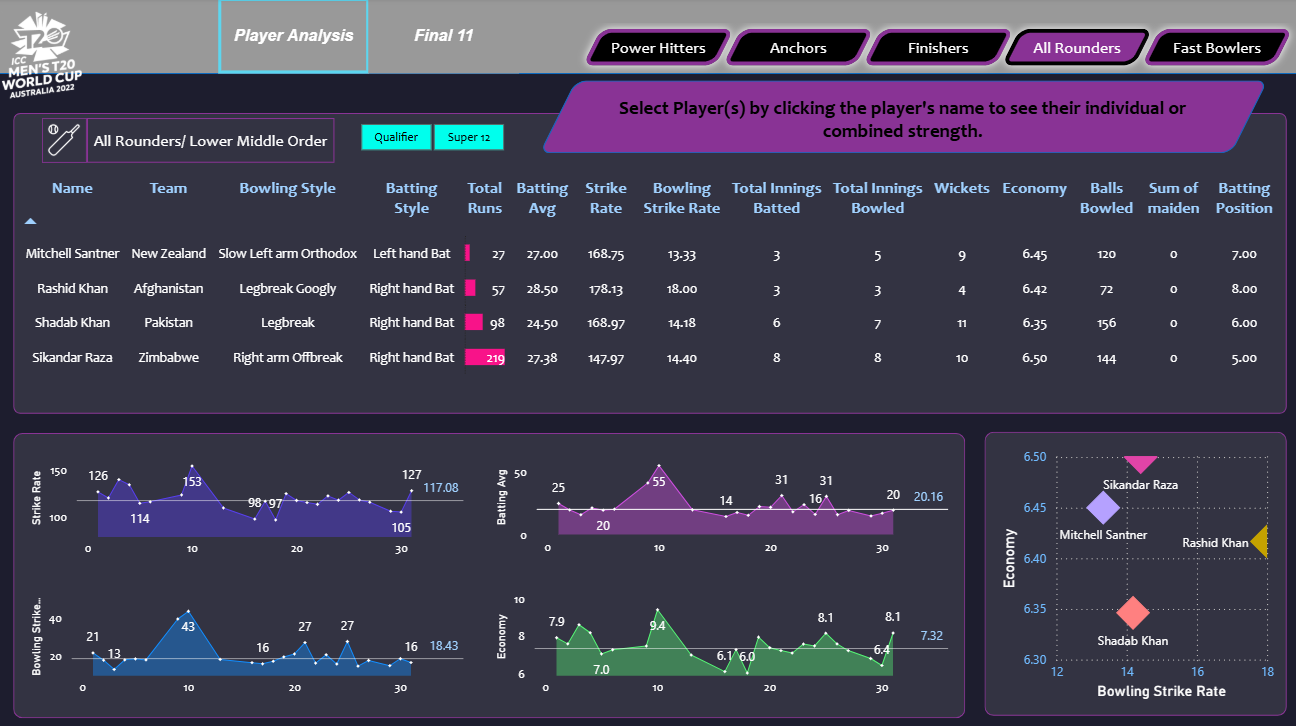

The dashboard page shown, as its layout file describes it:
{"tool":"powerbi","page":{"name":"All Rounders/ Lower Middle Order","canvas":[1280,720],"ordinal":3},"visuals":[{"type":"shape","box":[0,73.7,1280.3,646.3],"z":0},{"type":"shape","box":[16.5,112.6,1250.1,295.3],"z":1000},{"type":"shape","box":[532.4,81,714.9,71.4],"z":2000},{"type":"shape","box":[969.8,425.8,296.7,278.9],"z":3000},{"type":"shape","box":[16.5,426.8,934.5,279.9],"z":4000},{"type":"tableEx","fields":{"Values":["dim_players.name","dim_players.team","dim_players.bowlingStyle","dim_players.battingStyle","Key Measures (2).Total Runs","Key Measures (2).Batting Avg","Key Measures (2).Strike Rate","Key Measures (2).Bowling Strike Rate","Key Measures (2).Total Innings Batted","Key Measures (2).Total Innings Bowled","Key Measures (2).Wickets","Key Measures (2).Economy"]},"box":[16.5,161.9,1250.1,245.6],"z":5000},{"type":"scatterChart","fields":{"Category":["dim_players.name"],"Y":["Key Measures (2).Economy"],"X":["Key Measures (2).Bowling Strike Rate"],"Series":["dim_players.name"]},"box":[979.8,436.4,278.6,256.6],"z":6000},{"type":"card","fields":{"Values":["Key Measures (2).Batting Avg"]},"box":[779.4,74.1,100.2,67.2],"z":7000},{"type":"card","fields":{"Values":["Key Measures (2).Economy"]},"box":[1100.5,72.7,96.1,67.2],"z":8000},{"type":"card","fields":{"Values":["Key Measures (2).Bowling Strike Rate"]},"box":[990.7,76.8,109.8,63.1],"z":9000},{"type":"card","fields":{"Values":["Key Measures (2).Strike Rate"]},"box":[879.6,75.5,111.1,65.9],"z":10000},{"type":"actionButton","box":[216.8,0,148.2,74.1],"z":11000},{"type":"image","box":[0,0,87.8,112.5],"z":12000},{"type":"actionButton","box":[566.7,22,164.7,52.1],"z":13000},{"type":"actionButton","box":[703.9,22,164.7,52.1],"z":14000},{"type":"actionButton","box":[841.2,22,164.7,52.1],"z":15000},{"type":"actionButton","box":[978.4,22,164.7,52.1],"z":16000},{"type":"actionButton","box":[1115.3,22,164.7,52.1],"z":17000},{"type":"slicer","fields":{"Values":["dim_match_summary.Stage"]},"box":[330.7,116.6,190.7,38.4],"z":18000},{"type":"image","box":[43.9,118,43.9,43.9],"z":19000},{"type":"shape","box":[87.8,118,242.9,43.9],"z":20000},{"type":"shape","box":[550.3,90.6,231.9,43.9],"z":21000},{"type":"shape","box":[592.8,91.9,592.8,52.1],"z":22000},{"type":"actionButton","box":[365,0,148.2,74.1],"z":23000},{"type":"areaChart","fields":{"Category":["dim_match_summary.matchDate.Variation.Date Hierarchy.Day"],"Y":["Key Measures (2).Batting Avg"]},"box":[484.4,439.1,454.2,116.6],"z":24000},{"type":"areaChart","fields":{"Category":["dim_match_summary.matchDate.Variation.Date Hierarchy.Day"],"Y":["Key Measures (2).Strike Rate"]},"box":[28.8,439.1,435,118],"z":25000},{"type":"areaChart","fields":{"Category":["dim_match_summary.matchDate.Variation.Date Hierarchy.Day"],"Y":["Key Measures (2).Bowling Strike Rate"]},"box":[28.8,575,435,118],"z":26000},{"type":"areaChart","fields":{"Category":["dim_match_summary.matchDate.Variation.Date Hierarchy.Day"],"Y":["Key Measures (2).Economy"]},"box":[484.4,575,454.2,118],"z":27000}]}

Visuals, with their boxes in screenshot pixels (x1, y1, x2, y2), scaled from the page's 1280x720 canvas onto the 1296x726 screenshot:
shape: bbox(0, 74, 1295, 725)
shape: bbox(17, 114, 1282, 411)
shape: bbox(539, 82, 1263, 154)
shape: bbox(982, 429, 1282, 711)
shape: bbox(17, 430, 963, 713)
tableEx - dim_players.name x dim_players.team: bbox(17, 163, 1282, 411)
scatterChart - dim_players.name x Key Measures (2).Economy: bbox(992, 440, 1274, 699)
card - Key Measures (2).Batting Avg: bbox(789, 75, 891, 142)
card - Key Measures (2).Economy: bbox(1114, 73, 1212, 141)
card - Key Measures (2).Bowling Strike Rate: bbox(1003, 77, 1114, 141)
card - Key Measures (2).Strike Rate: bbox(891, 76, 1003, 143)
actionButton: bbox(220, 0, 370, 75)
image: bbox(0, 0, 89, 113)
actionButton: bbox(574, 22, 741, 75)
actionButton: bbox(713, 22, 879, 75)
actionButton: bbox(852, 22, 1018, 75)
actionButton: bbox(991, 22, 1157, 75)
actionButton: bbox(1129, 22, 1295, 75)
slicer - dim_match_summary.Stage: bbox(335, 118, 528, 156)
image: bbox(44, 119, 89, 163)
shape: bbox(89, 119, 335, 163)
shape: bbox(557, 91, 792, 136)
shape: bbox(600, 93, 1200, 145)
actionButton: bbox(370, 0, 520, 75)
areaChart - dim_match_summary.matchDate.Variation.Date Hierarchy.Day x Key Measures (2).Batting Avg: bbox(490, 443, 950, 560)
areaChart - dim_match_summary.matchDate.Variation.Date Hierarchy.Day x Key Measures (2).Strike Rate: bbox(29, 443, 470, 562)
areaChart - dim_match_summary.matchDate.Variation.Date Hierarchy.Day x Key Measures (2).Bowling Strike Rate: bbox(29, 580, 470, 699)
areaChart - dim_match_summary.matchDate.Variation.Date Hierarchy.Day x Key Measures (2).Economy: bbox(490, 580, 950, 699)
